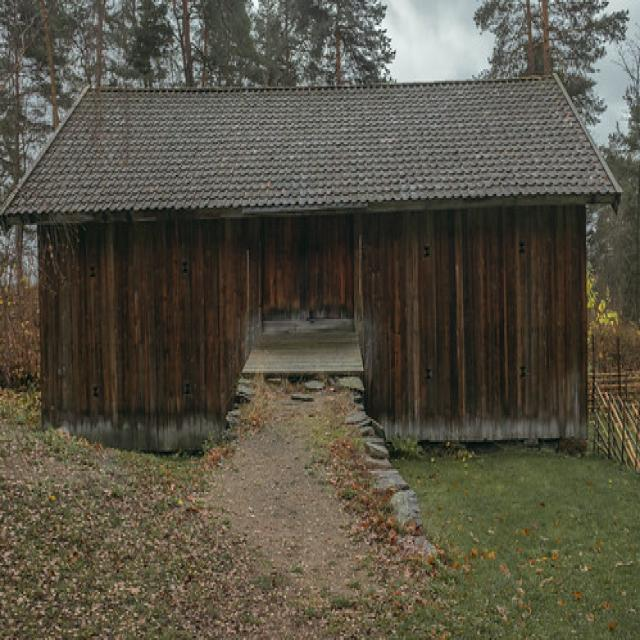building: (2, 77, 620, 455)
